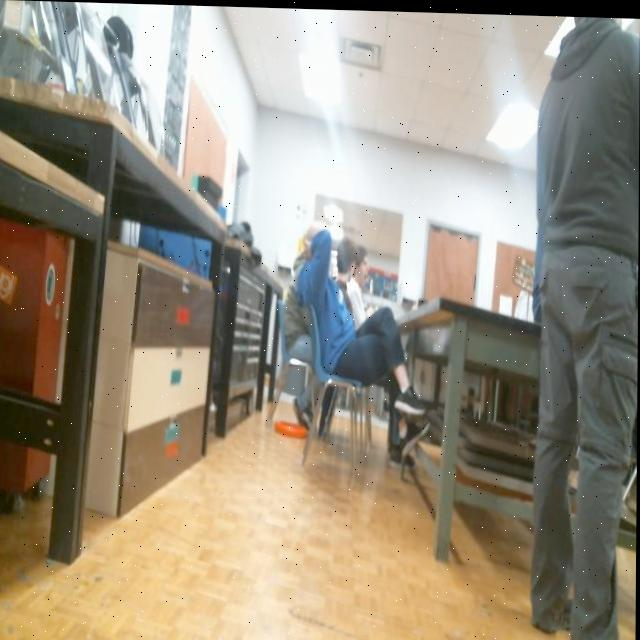note: (271, 414, 310, 437)
